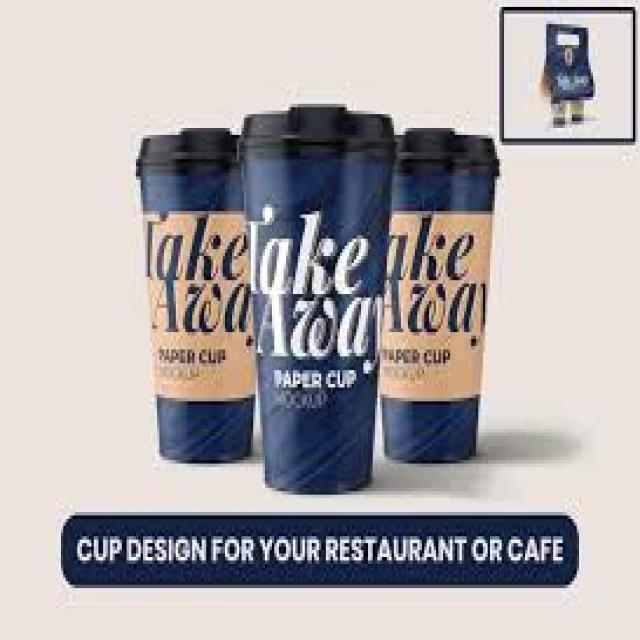bottle: (241, 126, 391, 494), (381, 129, 499, 462), (136, 167, 254, 462)
